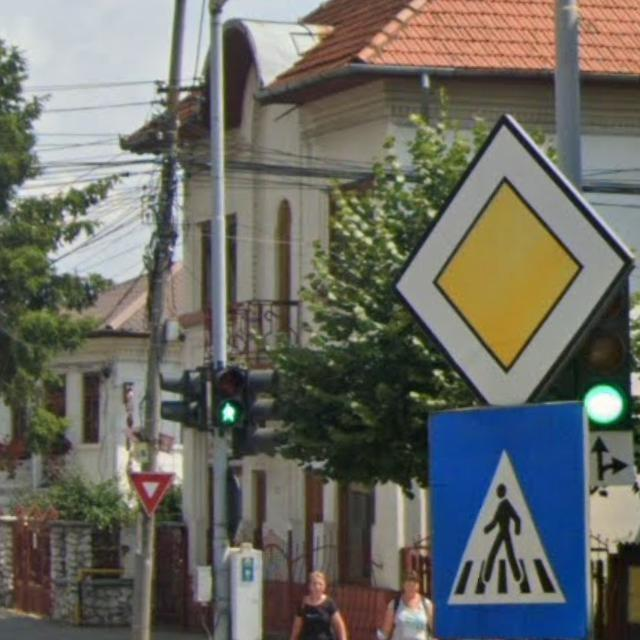info_crosswalk: (421, 401, 590, 640)
prio_give_way: (128, 472, 174, 518)
